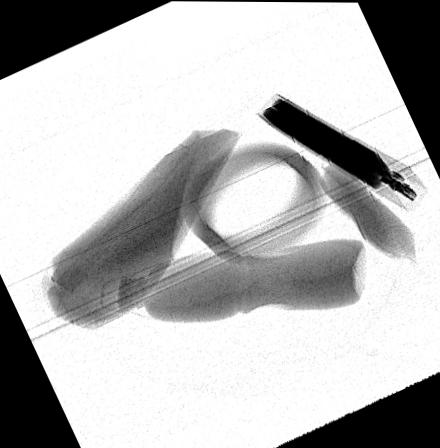Powerbank: (255, 91, 426, 212)
